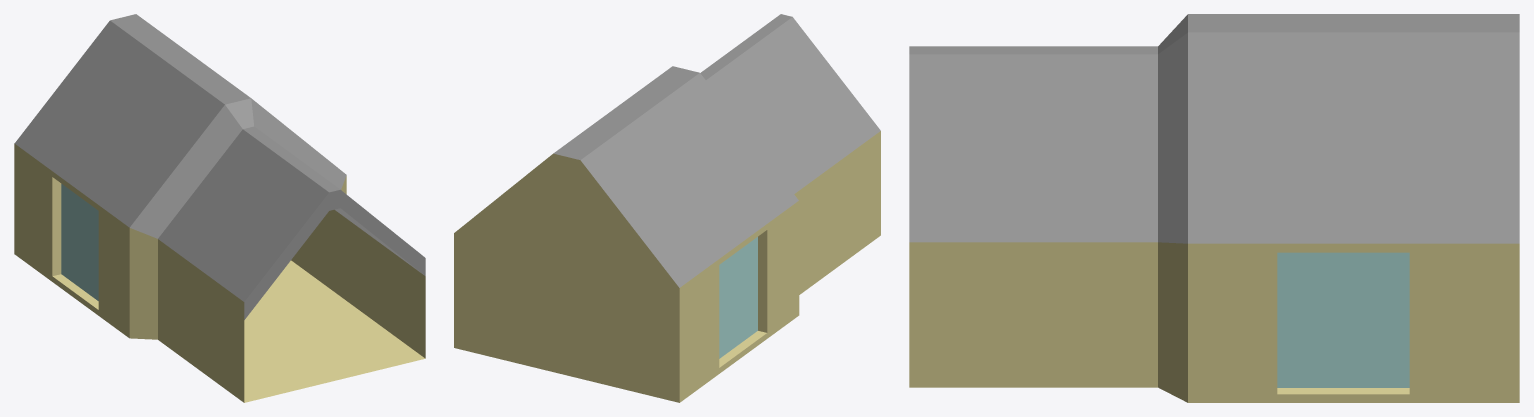
Rendered from Tenda.fbx.
3 views of the same model, side by side, from view 1: azimuth 30°, elevation 25°; view 2: azimuth 150°, elevation 25°; view 3: azimuth 270°, elevation 25° (orthographic). The views are drawn at different scales.
Parts seen in each view (by area): view 1: Cube; view 2: Cube; view 3: Cube.
Part boxes in pixels (box(x1,y1,x2,y2)): Cube: box(14, 14, 425, 402); Cube: box(454, 14, 880, 402); Cube: box(909, 14, 1519, 402).
Size of the model in its own units: 365 by 338 by 617.
